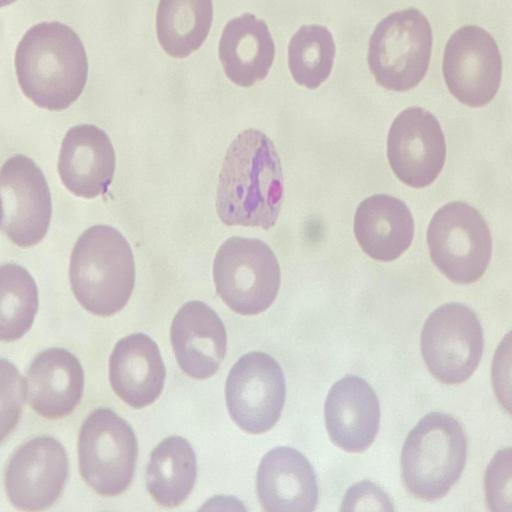Infected: (216, 130, 286, 231)
Uninfected: (14, 19, 87, 110), (418, 300, 487, 384), (72, 224, 133, 317), (400, 413, 465, 500), (366, 7, 430, 91), (427, 199, 490, 284), (76, 408, 136, 496), (216, 235, 281, 316), (224, 351, 285, 434), (0, 153, 51, 251), (3, 437, 67, 511), (388, 106, 445, 188), (444, 24, 501, 105), (22, 346, 83, 420), (108, 331, 166, 408), (322, 375, 378, 454), (59, 124, 117, 200), (171, 300, 225, 379), (354, 195, 415, 262), (258, 445, 318, 512), (221, 11, 273, 86), (143, 435, 196, 508), (156, 0, 212, 59), (288, 21, 333, 89)
